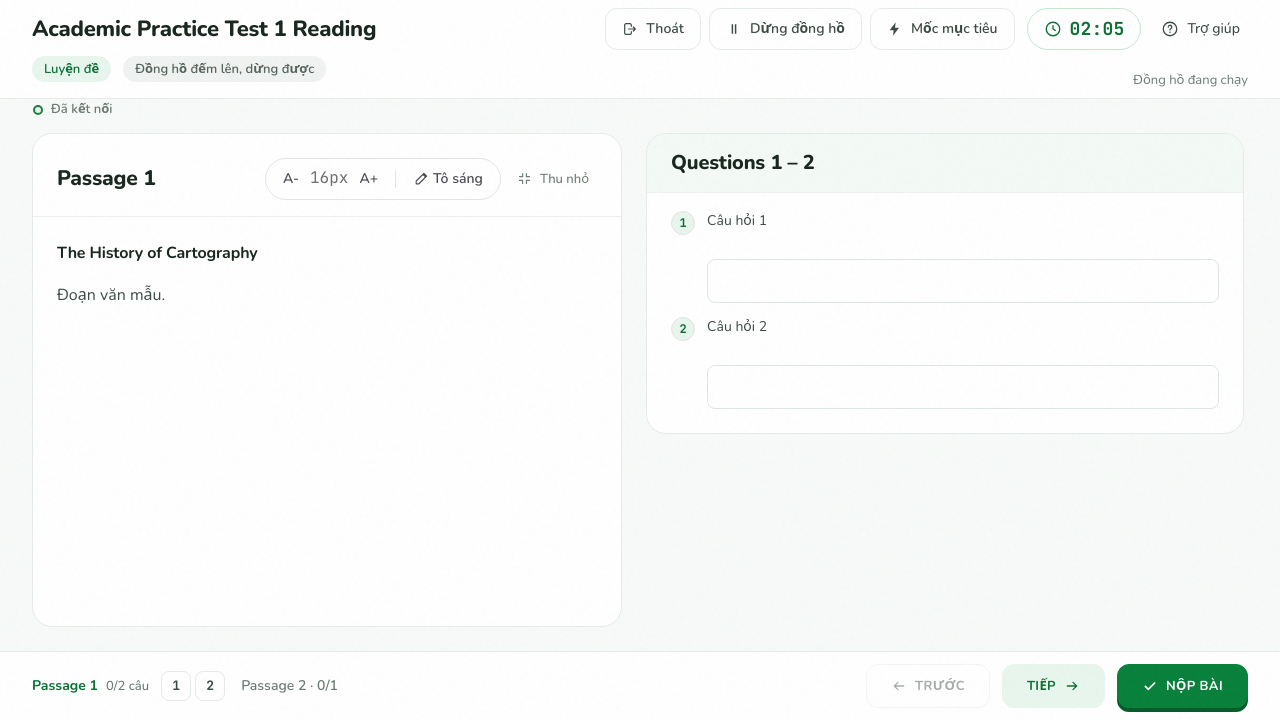
Test case: shows the open section as boxes and every other section as a count
The image size is (1280, 720).
Check: the heading "The History of Cartography" is shown, box [57, 242, 258, 264]
Check: the number of buttons with class "exr-box" is 2, box [161, 671, 191, 701]; [195, 671, 225, 701]
Click the button with aria-label "Section sau": [1053, 686] box [1002, 664, 1105, 708]
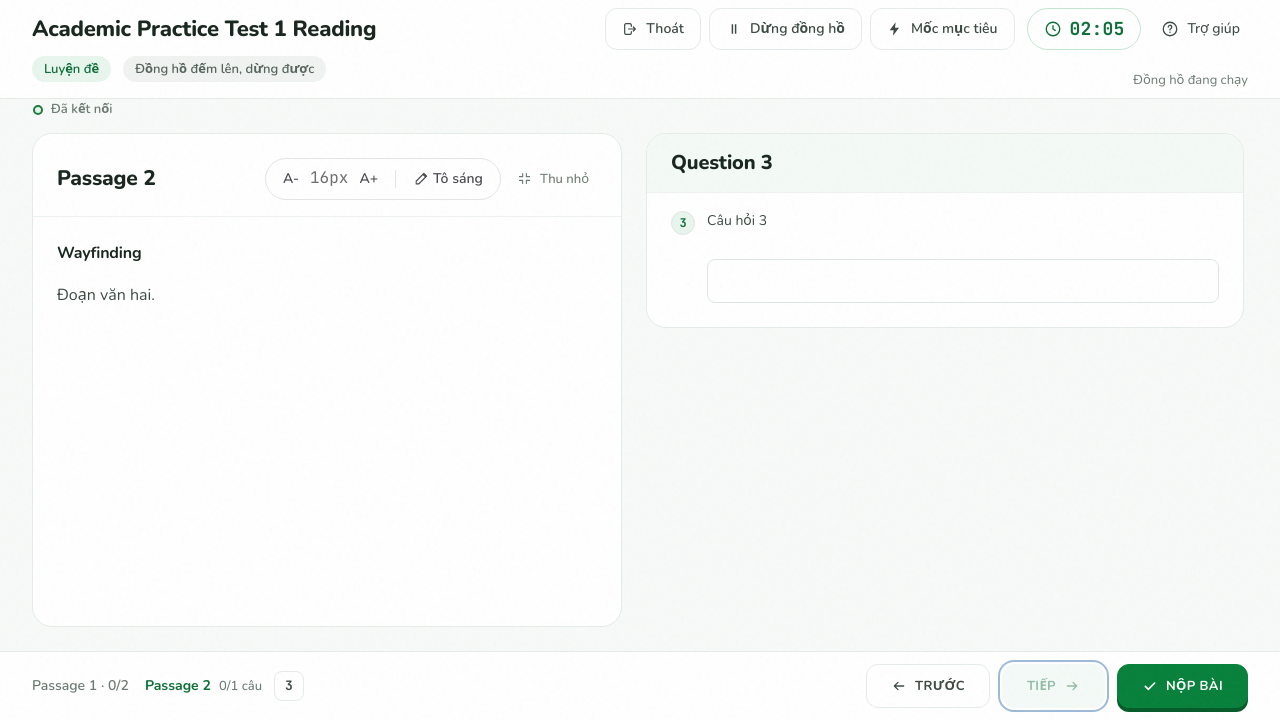
Check: the heading "Wayfinding" is shown, box [57, 242, 141, 264]
Check: the number of buttons with class "exr-box" is 1, box [274, 671, 304, 701]
